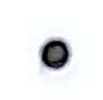cancer: (21, 23, 89, 88)
